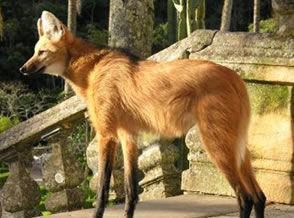LoboGuara: (15, 8, 270, 212)
